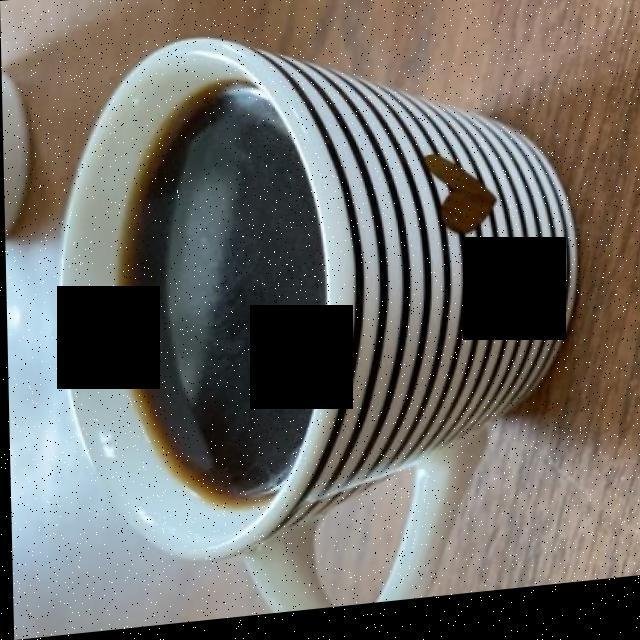coffee: (121, 95, 317, 499)
